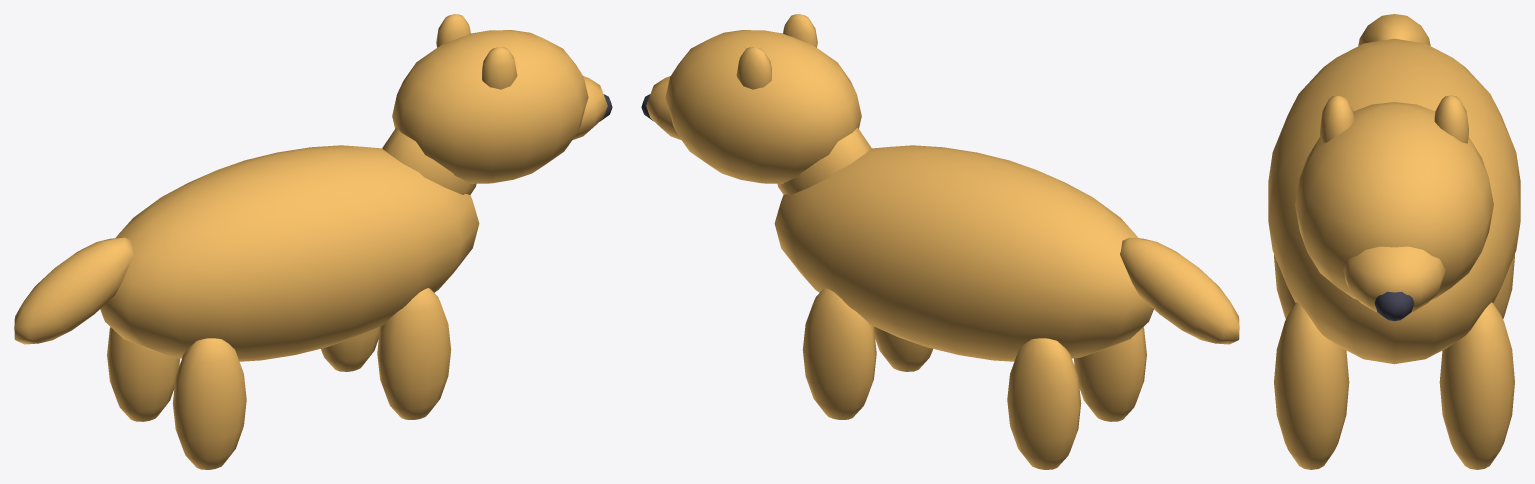
Rendered from tiger.glb.
The picture shows the model from 3 angles, left to right: view 1: azimuth 30°, elevation 25°; view 2: azimuth 150°, elevation 25°; view 3: azimuth 270°, elevation 25°; orthographic projection. The views are drawn at different scales.
Visible parts, largest first — view 1: Body, Head, LegBackLeft, LegFrontLeft, Tail, LegBackRight, Neck, LegFrontRight, EarLeft, Snout, EarRight; view 2: Body, Head, LegBackRight, LegFrontRight, Tail, LegBackLeft, Neck, LegFrontLeft, EarRight, Snout, EarLeft; view 3: Body, Head, LegFrontLeft, LegFrontRight, Snout, Tail, EarLeft, EarRight, Nose, LegBackLeft, LegBackRight.
Part boxes in pixels (box(x1,y1,x2,y2)): Body: box(100, 145, 479, 361); Head: box(392, 30, 588, 183); LegBackLeft: box(172, 338, 246, 469); LegFrontLeft: box(377, 288, 451, 419); Tail: box(14, 237, 133, 344); LegBackRight: box(107, 327, 180, 421); Neck: box(382, 127, 476, 194); LegFrontRight: box(321, 326, 379, 371); EarLeft: box(482, 47, 517, 89); Snout: box(572, 76, 607, 140); EarRight: box(436, 14, 470, 47); Body: box(774, 145, 1153, 361); Head: box(665, 30, 861, 183); LegBackRight: box(1007, 338, 1081, 469); LegFrontRight: box(802, 288, 876, 419); Tail: box(1120, 237, 1239, 344); LegBackLeft: box(1073, 327, 1146, 421); Neck: box(777, 127, 871, 194); LegFrontLeft: box(874, 326, 932, 371); EarRight: box(736, 47, 771, 89); Snout: box(646, 76, 681, 140); EarLeft: box(783, 14, 817, 47); Body: box(1268, 38, 1520, 364); Head: box(1295, 102, 1493, 299); LegFrontLeft: box(1274, 302, 1349, 469); LegFrontRight: box(1439, 302, 1514, 469); Snout: box(1343, 246, 1445, 312); Tail: box(1358, 14, 1430, 45); EarLeft: box(1320, 95, 1354, 143); EarRight: box(1434, 95, 1468, 143); Nose: box(1374, 291, 1414, 321); LegBackLeft: box(1274, 254, 1295, 318); LegBackRight: box(1493, 254, 1514, 318).
Size of the model in its own units: 2.19 by 1.2 by 0.6362.
